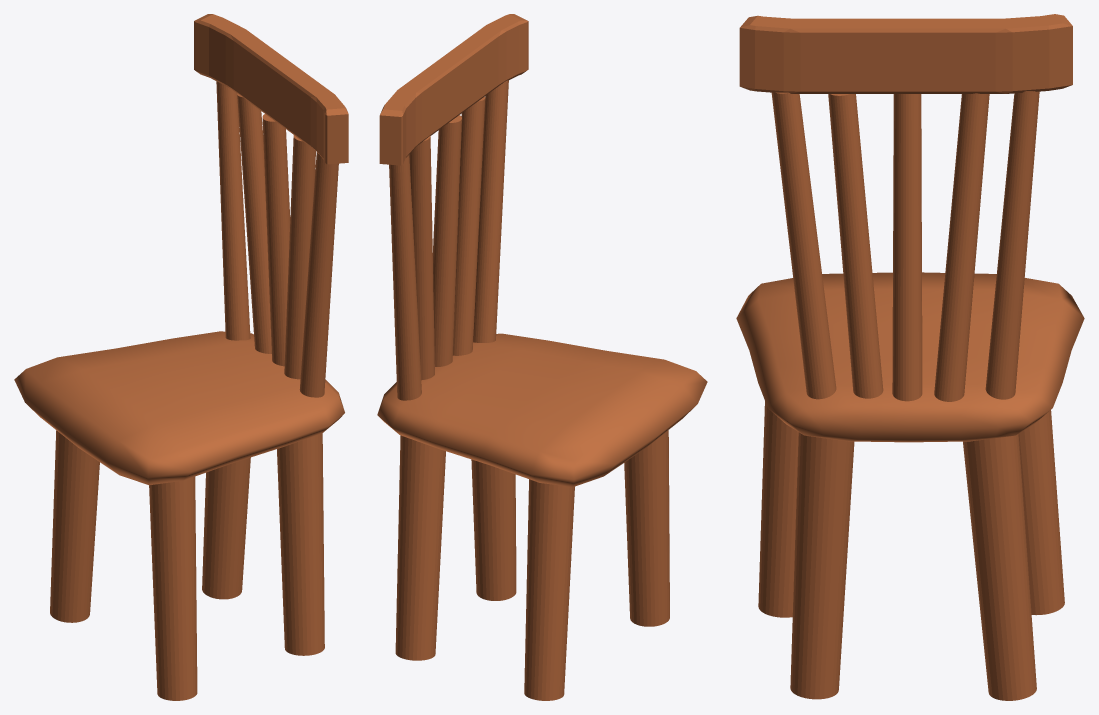
The model's file is CoolStoolfbx.fbx.
3 views of the same model, side by side, from view 1: azimuth 30°, elevation 25°; view 2: azimuth 150°, elevation 25°; view 3: azimuth 270°, elevation 25° (orthographic). The views are drawn at different scales.
Parts seen in each view (by area): view 1: Cube.009; view 2: Cube.009; view 3: Cube.009.
Boxes of the visible parts, x1,y1,x2,y2 form: Cube.009: (14,14,348,700); Cube.009: (377,14,707,700); Cube.009: (736,14,1084,700).
Size of the model in its own units: 281 by 613 by 286.
